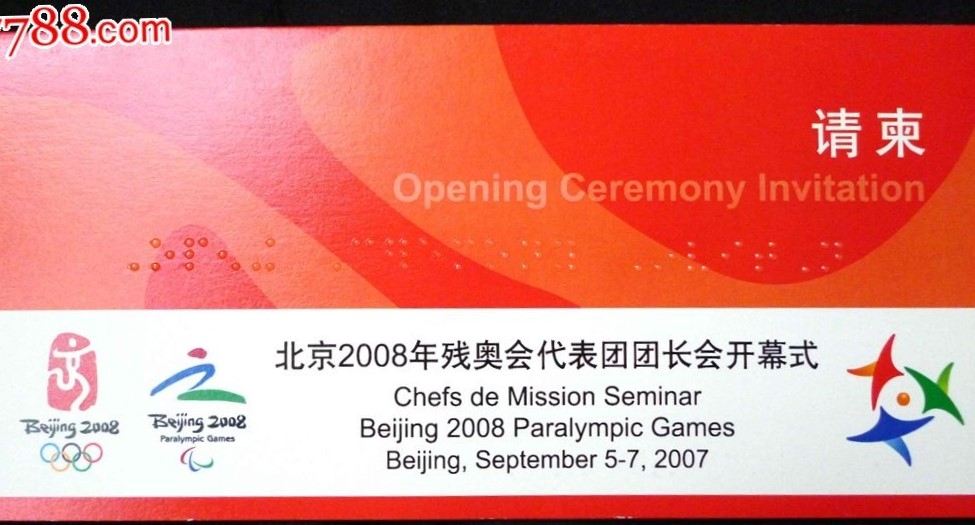Braille: (150, 236, 175, 273), (720, 238, 745, 274), (217, 237, 242, 272), (252, 236, 276, 272), (752, 239, 777, 273), (118, 237, 141, 273), (417, 237, 442, 270), (184, 237, 208, 271), (486, 237, 510, 271), (318, 238, 342, 272), (618, 241, 644, 272), (652, 241, 677, 273), (520, 239, 544, 272), (820, 240, 843, 274), (789, 240, 812, 274), (553, 239, 576, 272), (386, 238, 409, 270), (351, 239, 375, 269), (455, 239, 477, 271), (687, 241, 708, 274)
